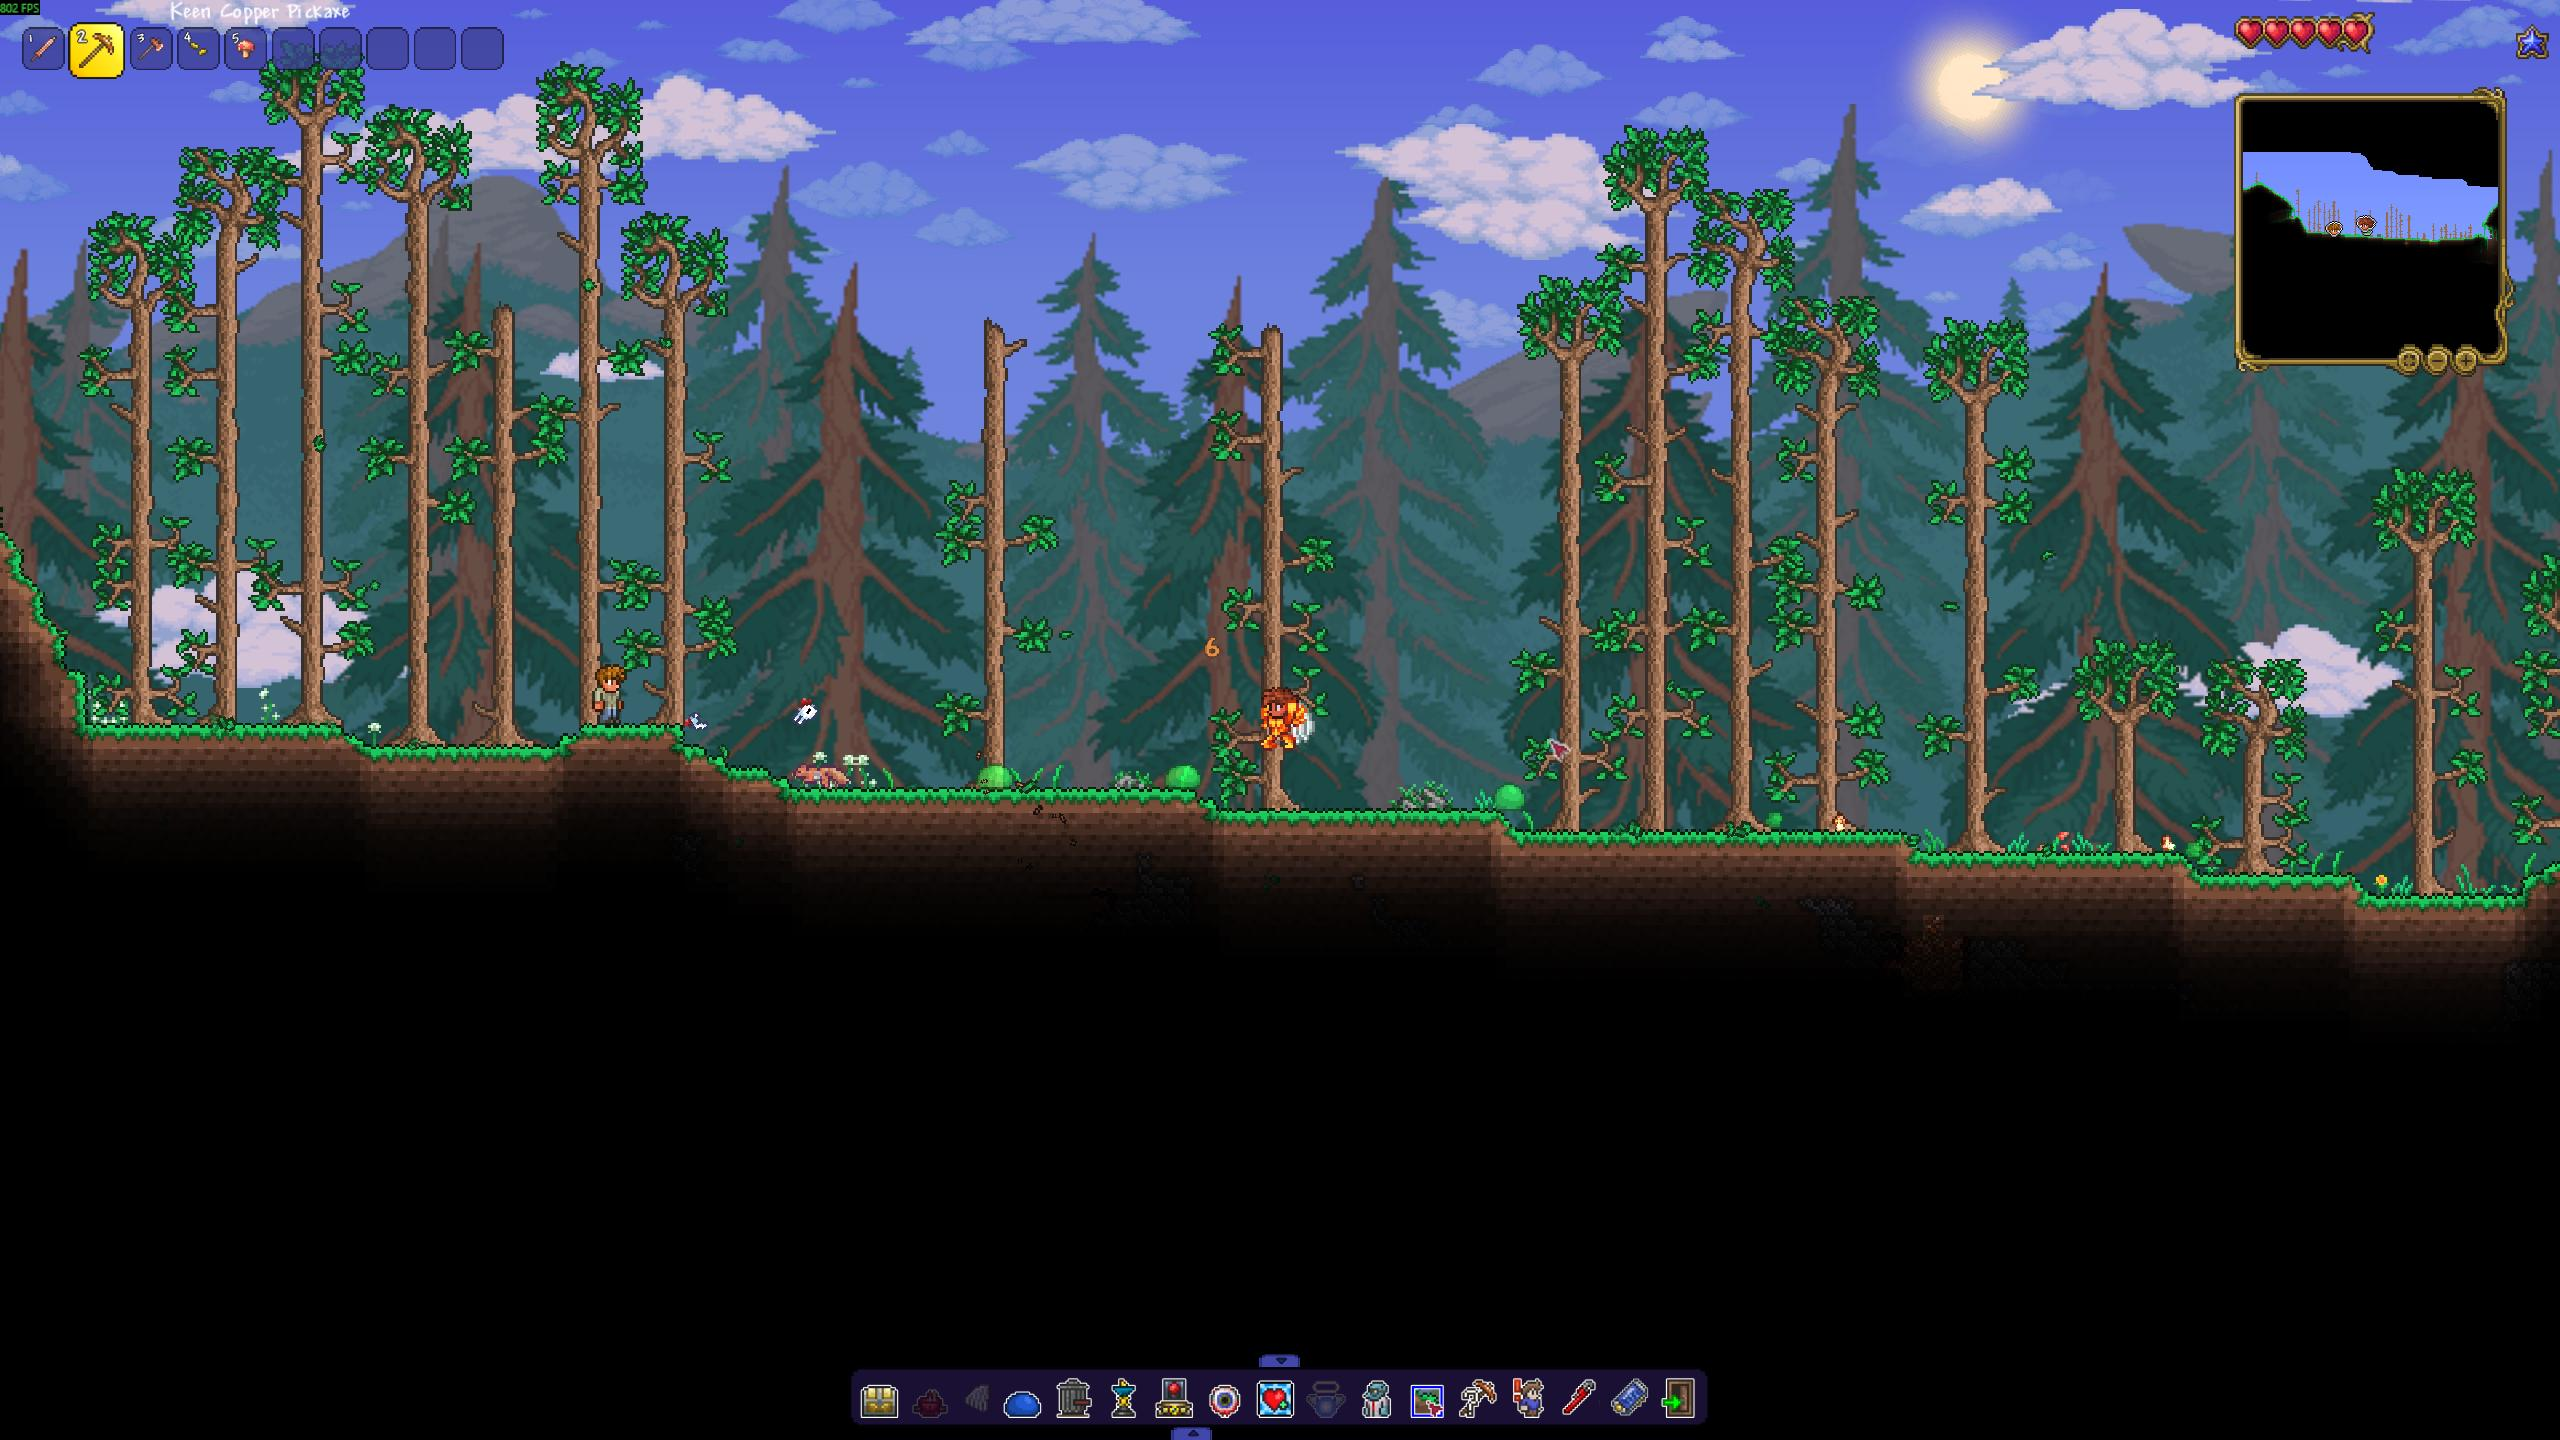Green Slime: (1159, 761, 1204, 789), (1491, 782, 1528, 812), (976, 761, 1013, 788)
